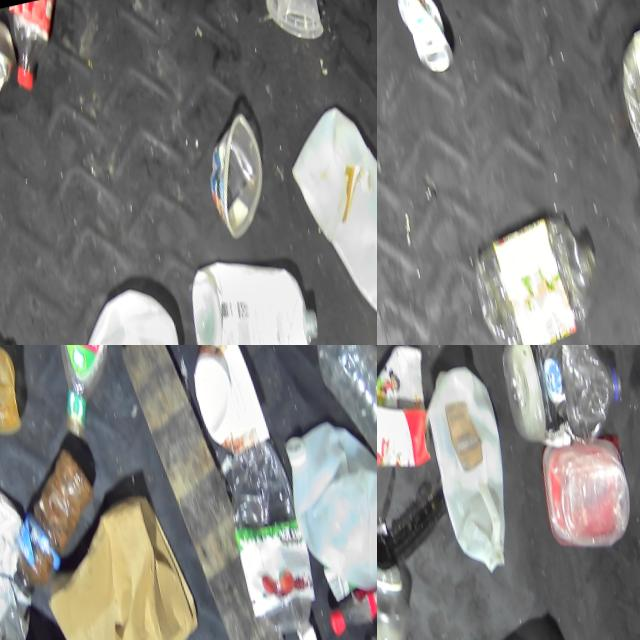can: (387, 0, 461, 80), (0, 21, 22, 112)
milk_jug: (420, 367, 525, 585), (287, 100, 377, 345), (276, 403, 377, 597), (47, 287, 196, 345)
plastic_bottle: (212, 433, 321, 640), (463, 203, 607, 345), (301, 345, 377, 499), (609, 0, 640, 181)
